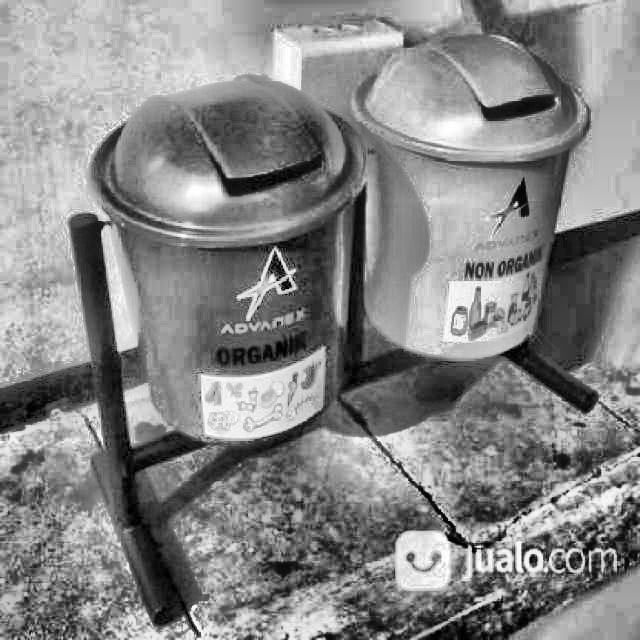Dustbin: (79, 60, 372, 460), (353, 27, 596, 380)
